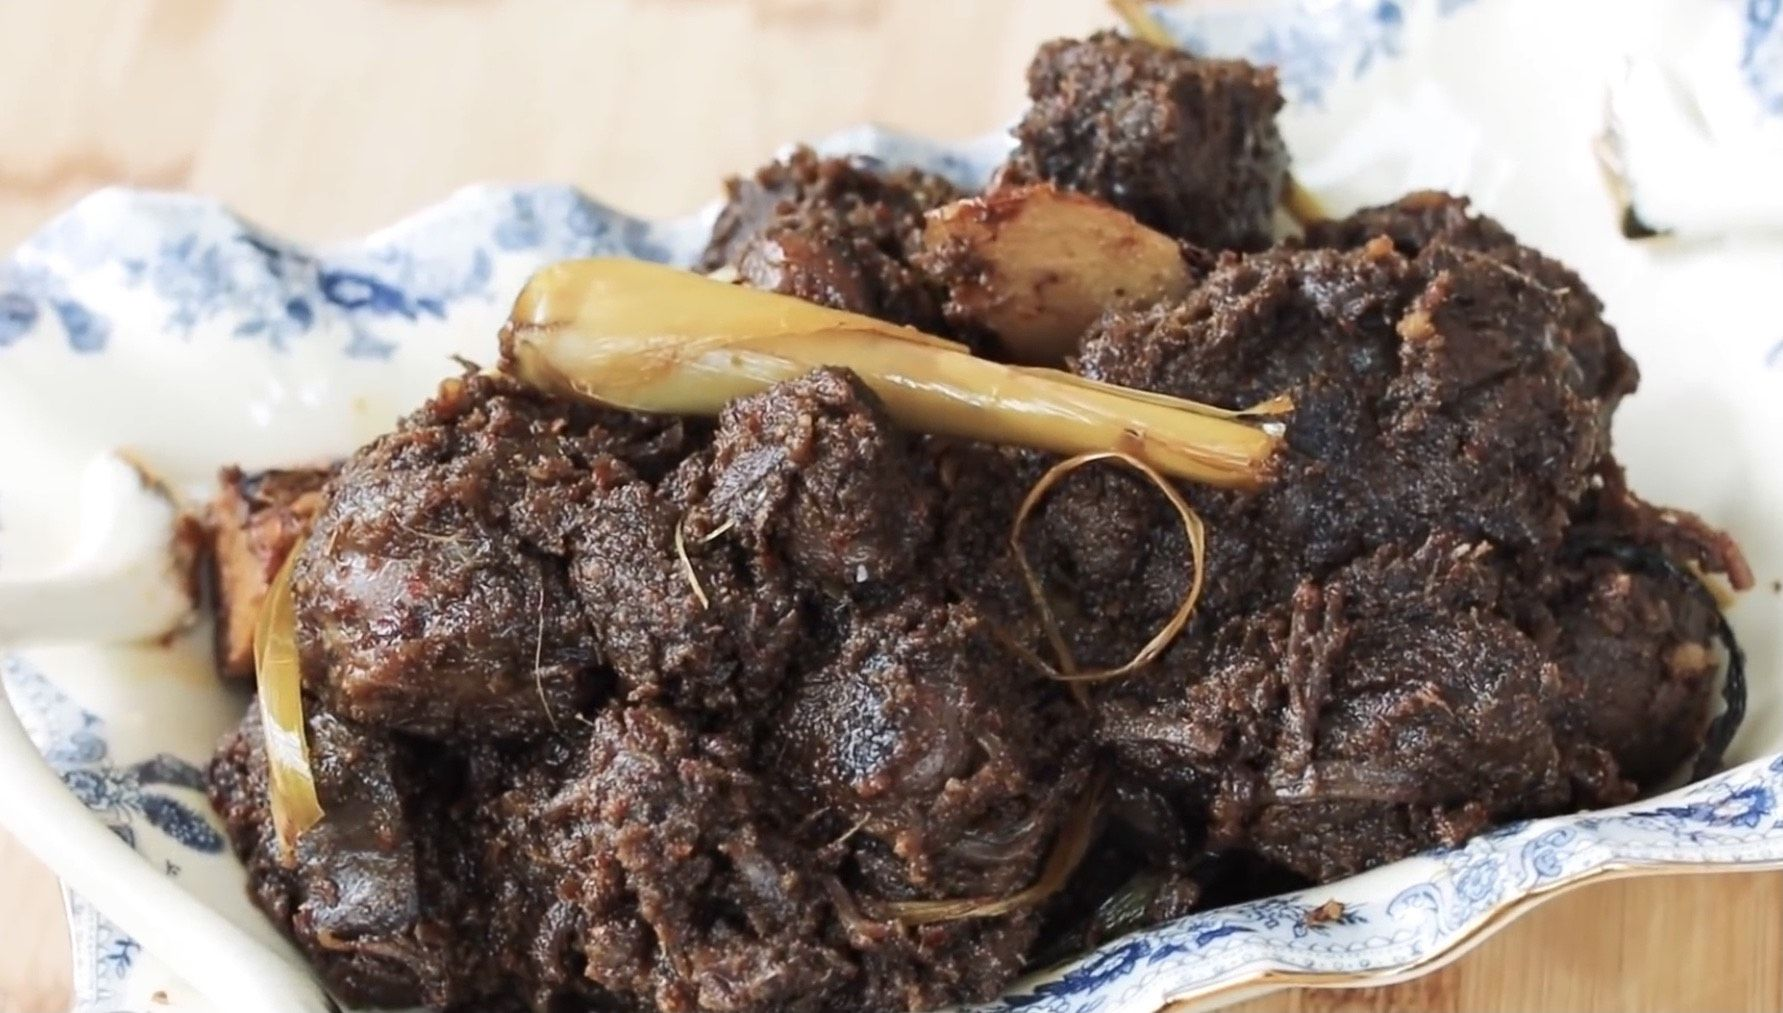rendang: (193, 20, 1749, 1013)
